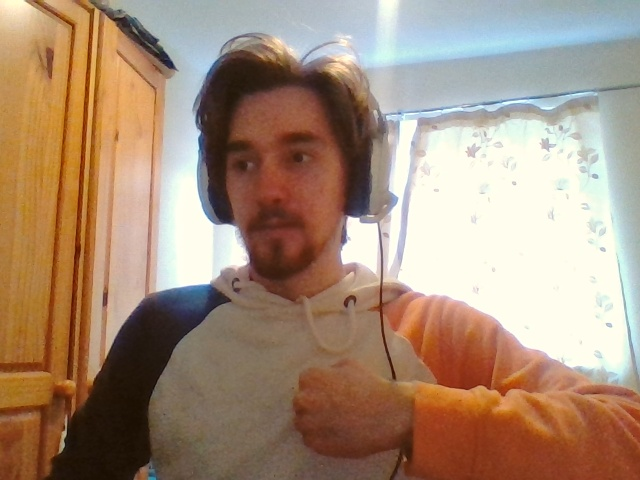morning: (295, 359, 380, 456)
